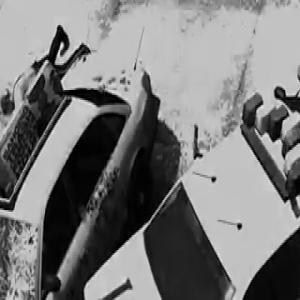minor: (0, 18, 300, 300)
